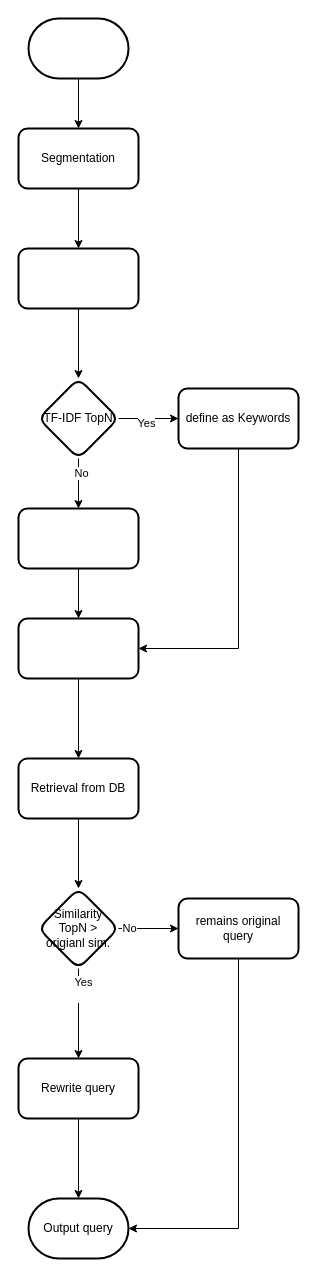
This 316x1276 diagram has some shape labels left out. Each missing label, with the centre of its shape:
"For plain words, replace w/ Synonym" belongs at point (78, 648).
"Input Query" belongs at point (78, 48).
"Plain Words" belongs at point (78, 538).
"Word Weighting" belongs at point (78, 278).
